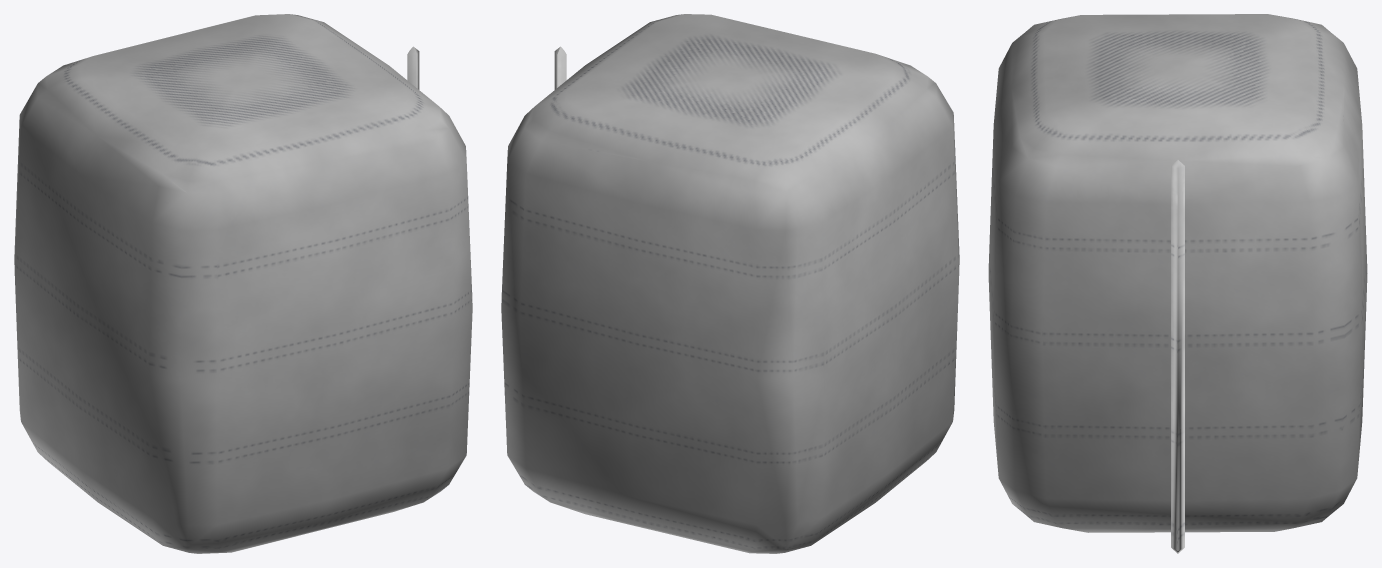
File: LeftUpperLeg_C1.fbx
3 renders of one model, left to right at view 1: azimuth 30°, elevation 25°; view 2: azimuth 150°, elevation 25°; view 3: azimuth 270°, elevation 25°, orthographic.
Visible parts, largest first — view 1: Civ_Jean_LeftUpperLeg_C1; view 2: Civ_Jean_LeftUpperLeg_C1; view 3: Civ_Jean_LeftUpperLeg_C1.
Boxes of the visible parts, x1,y1,x2,y2 form: Civ_Jean_LeftUpperLeg_C1: (14,14,472,553); Civ_Jean_LeftUpperLeg_C1: (501,14,959,553); Civ_Jean_LeftUpperLeg_C1: (988,14,1367,553).
Size of the model in its own units: 1.24 by 1.43 by 1.19.
